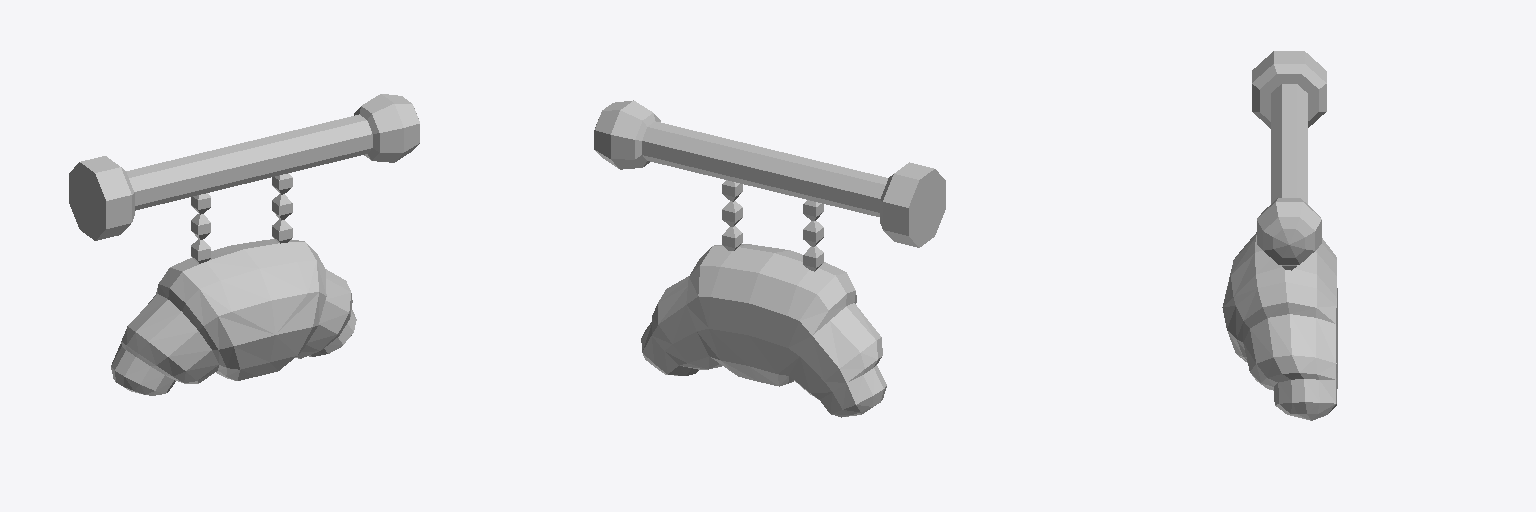
The model's file is sign_wall_croissant.obj.
3 views of the same model, side by side, from view 1: azimuth 30°, elevation 25°; view 2: azimuth 150°, elevation 25°; view 3: azimuth 270°, elevation 25° (orthographic).
Parts seen in each view (by area): view 1: sign_wall_croissant; view 2: sign_wall_croissant; view 3: sign_wall_croissant.
Part boxes in pixels (left/top/right/bottom): sign_wall_croissant: left=69, top=94, right=419, bottom=395; sign_wall_croissant: left=594, top=100, right=945, bottom=417; sign_wall_croissant: left=1222, top=51, right=1337, bottom=420.
Bounding box in the file's own units: 2.02 × 1.47 × 0.6146.